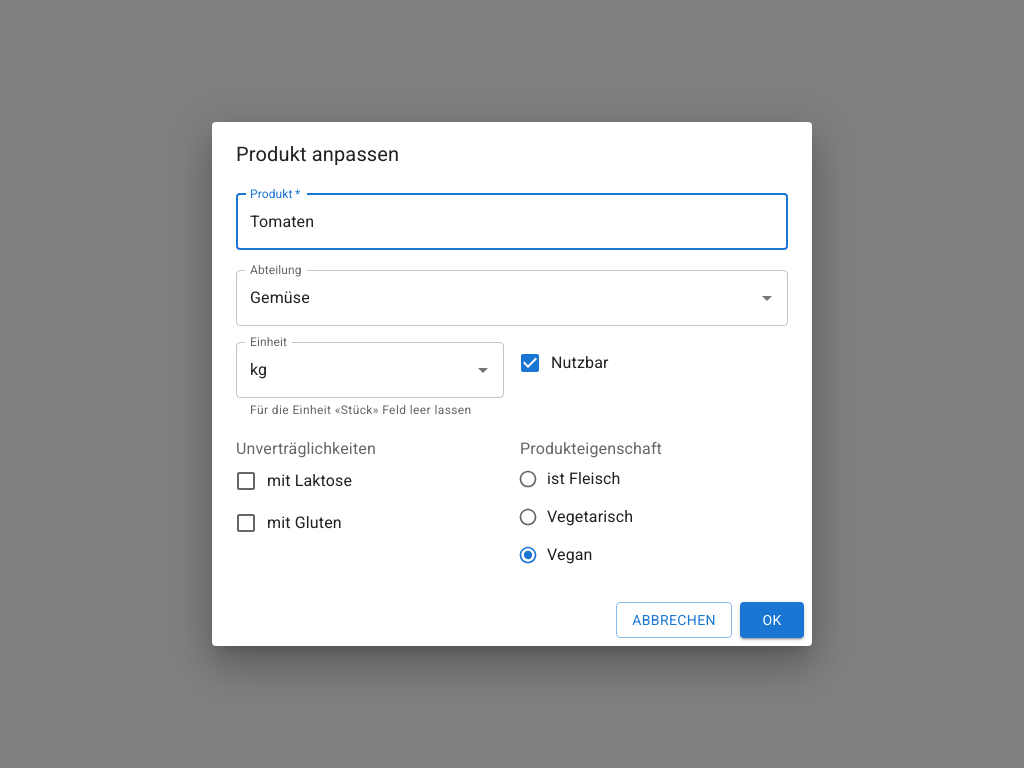
Test case: DialogProduct — EDIT › Name-Validierung: leerer Name zeigt Fehlermeldung
Clear the field showing "Tomaten": coordinates (512, 222) [236, 194, 788, 250]
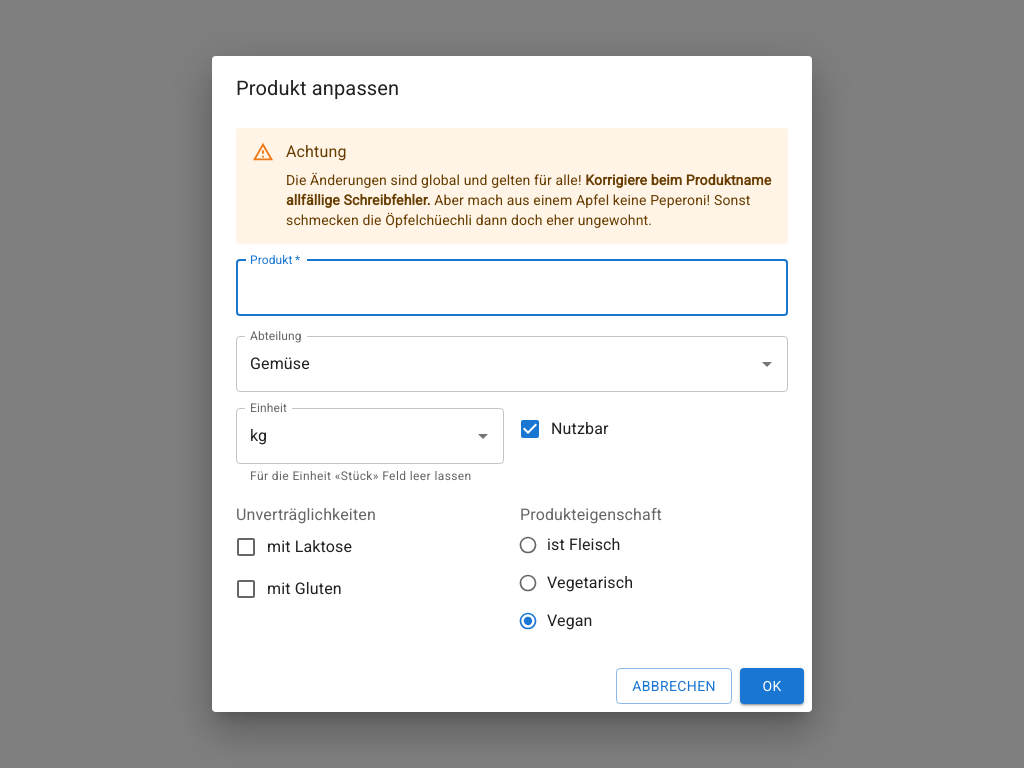
Click the button "OK": coordinates (772, 686) [740, 668, 804, 704]
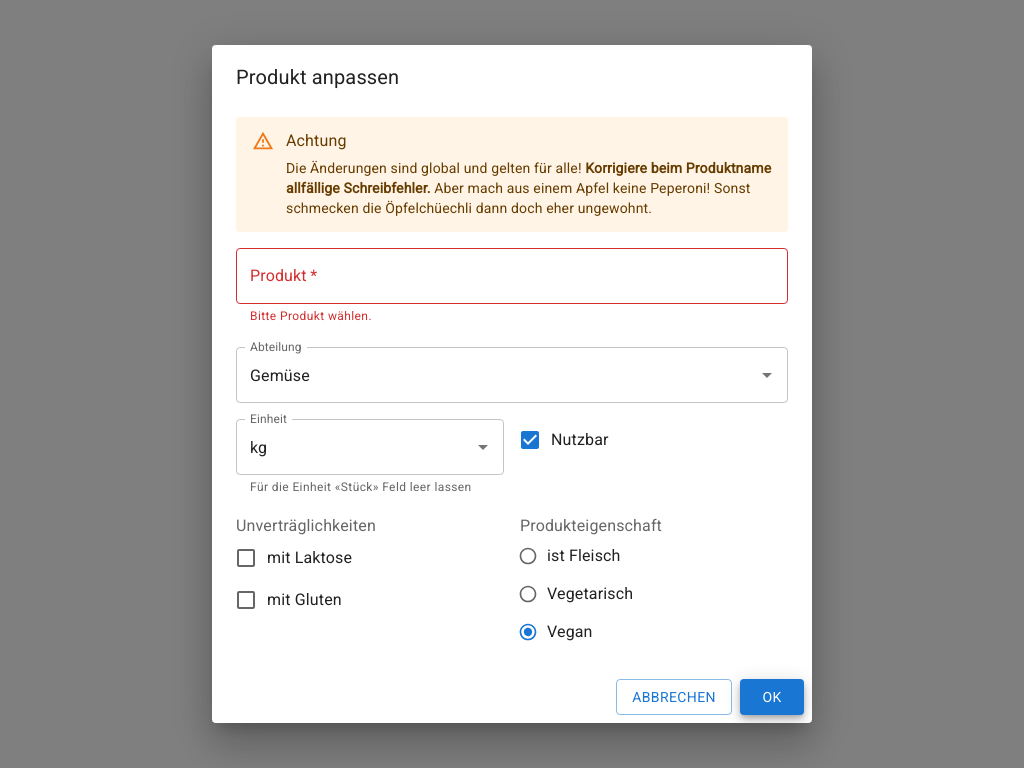
Now the text "Bitte Produkt wählen." is shown, box [250, 309, 372, 323]
